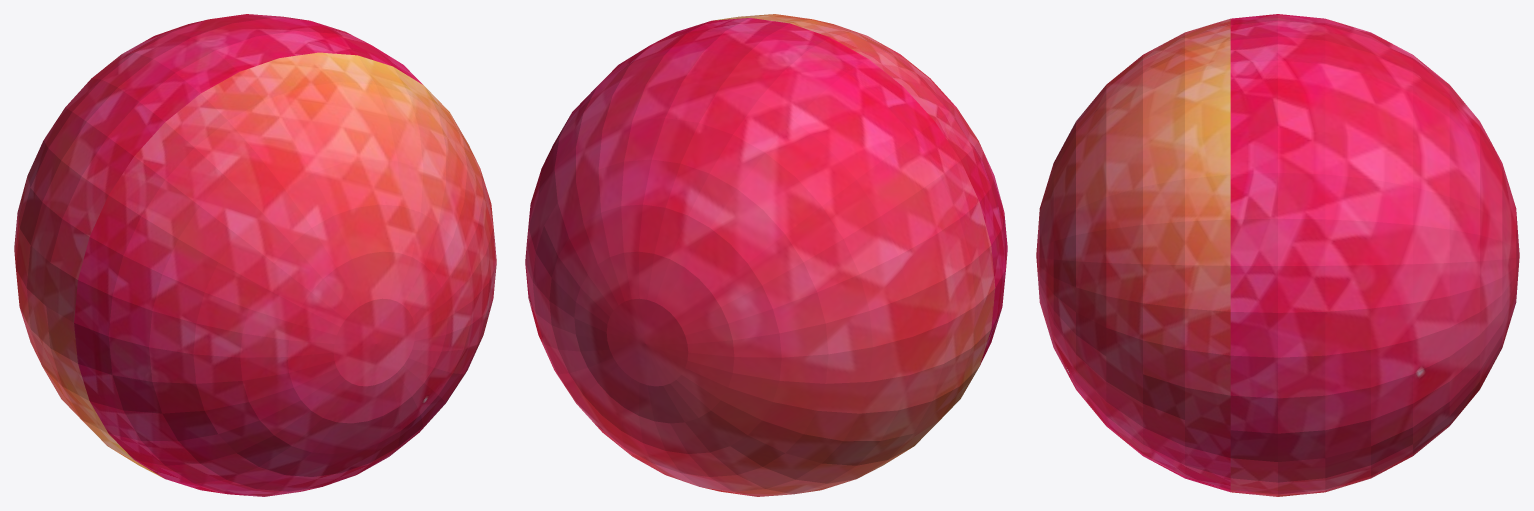
3 views of the same model, side by side, from view 1: azimuth 30°, elevation 25°; view 2: azimuth 150°, elevation 25°; view 3: azimuth 270°, elevation 25° (orthographic).
Parts seen in each view (by area): view 1: Sphere; view 2: Sphere; view 3: Sphere.
Part boxes in pixels (bbox=[...]): Sphere: bbox=[14, 14, 496, 496]; Sphere: bbox=[525, 14, 1007, 496]; Sphere: bbox=[1036, 14, 1519, 496].
Size of the model in its own units: 3.96 by 3.96 by 3.96.
